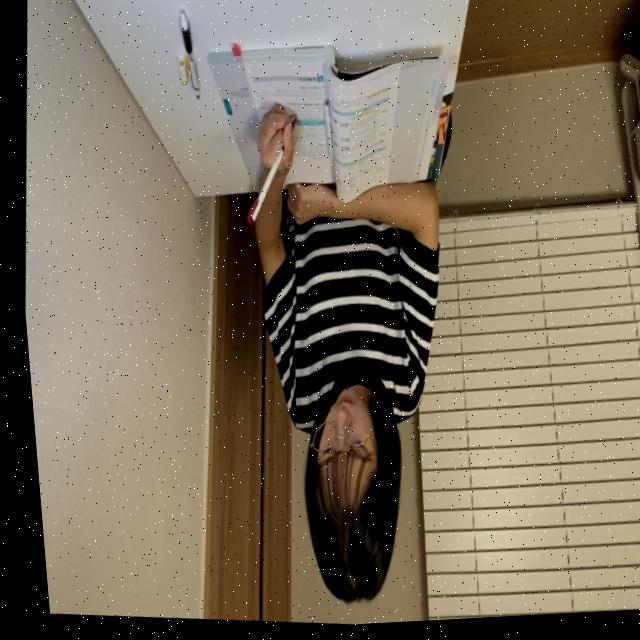studying-person: (150, 25, 497, 634)
